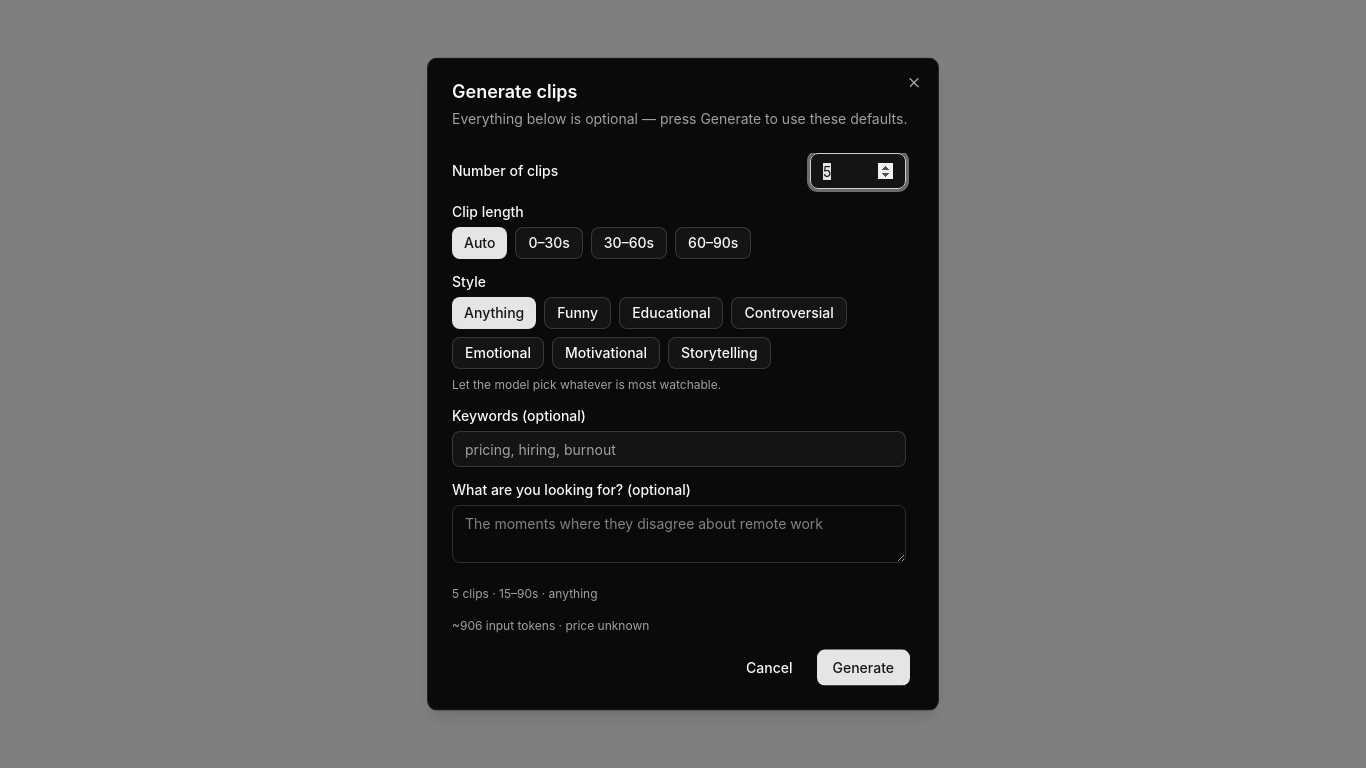
Test: the summary line › describes what pressing Generate will do, live
The image size is (1366, 768).
Check: the text with test id "preflight-summary" reads "5 clips · 15–90s · anything", box [452,585,598,600]
Click the button with test id "preflight-style-educational" at [671, 313], box [619,297,723,329]
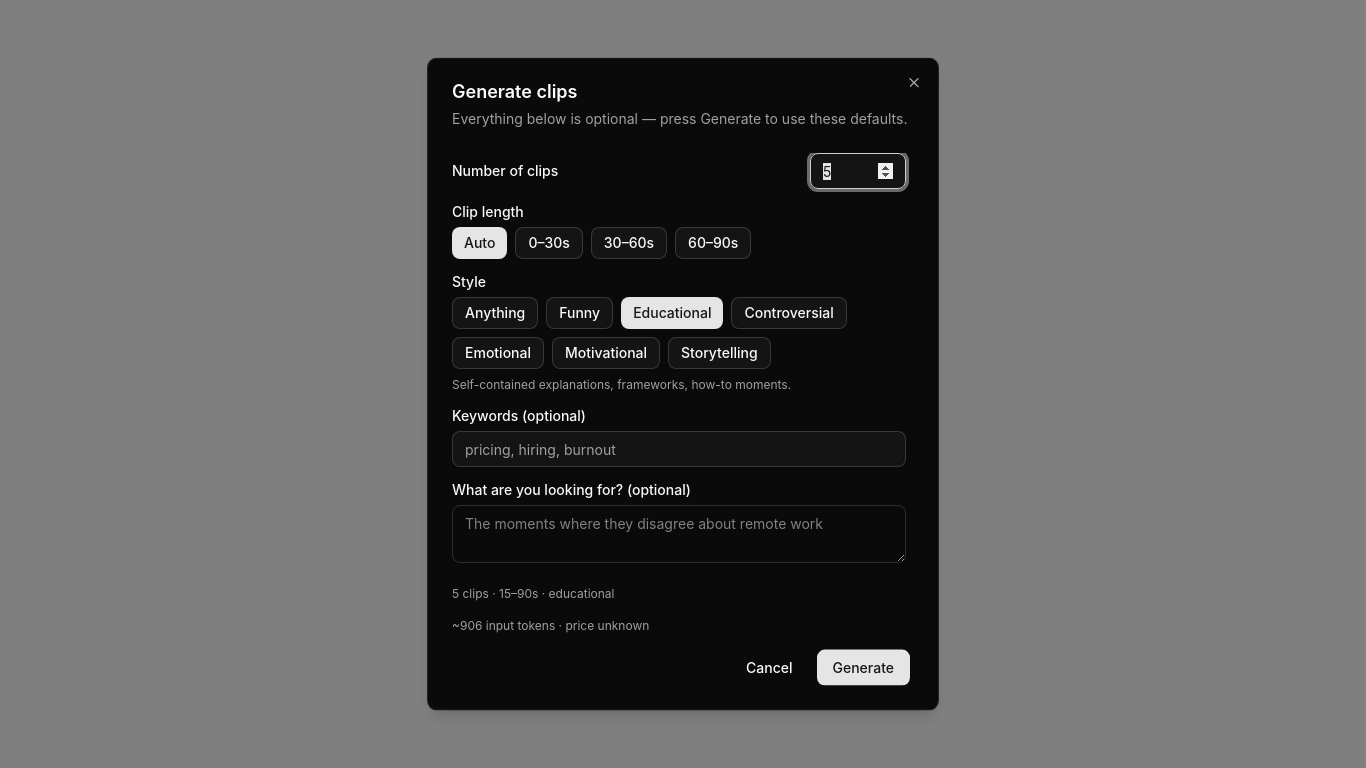
Check: the text with test id "preflight-summary" shows "educational", box [452,585,614,600]
